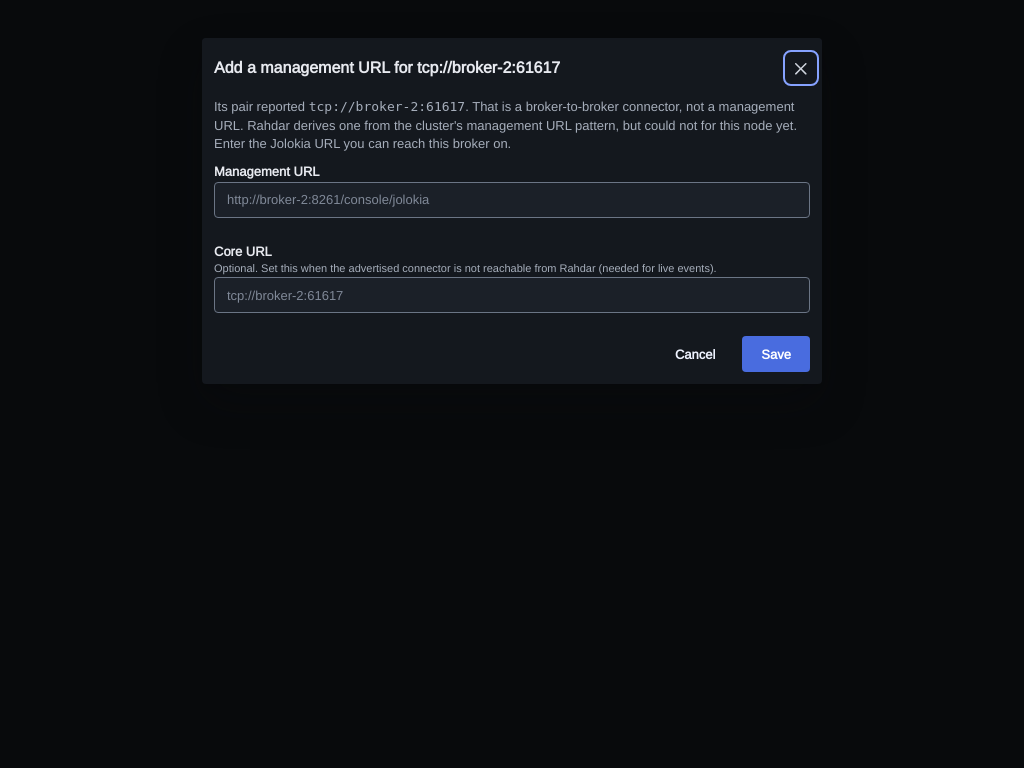
Test: AddManagementUrl › keeps Save live, asks for a URL beside the field, focuses it and sends nothing when pressed empty
Click the button "Save" at [776, 354], box x1=742 y1=336 x2=810 y2=372
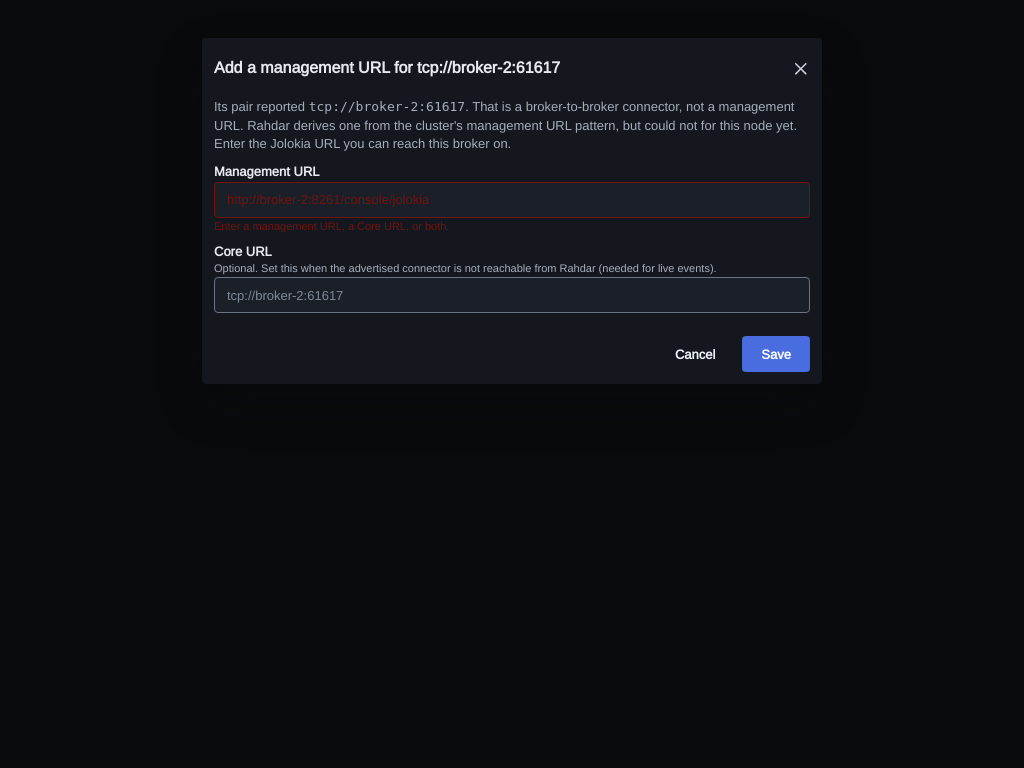
Expected: the text "Enter a management URL, a Core URL, or both." is shown, x1=214 y1=219 x2=449 y2=233
